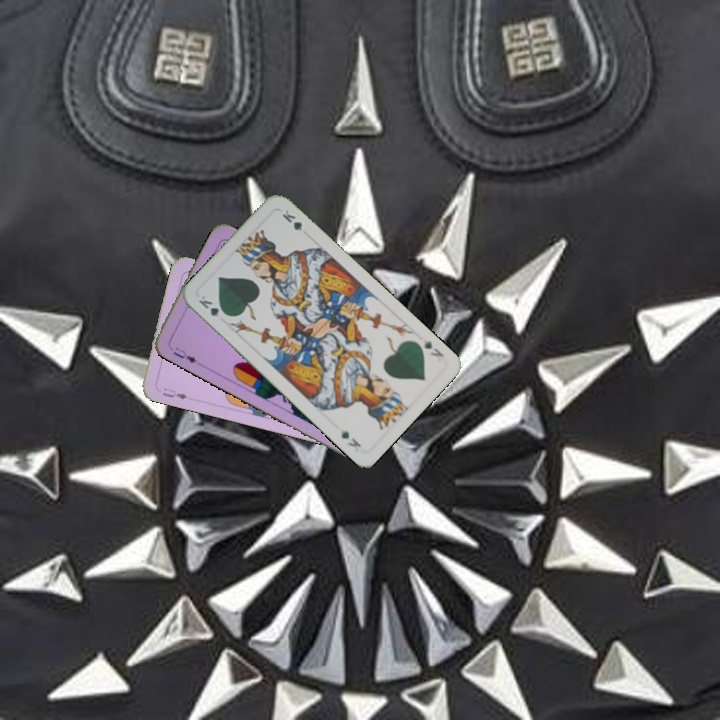EU: (164, 341, 202, 366), (159, 384, 190, 402)
GK: (194, 291, 231, 320), (419, 335, 447, 360)
